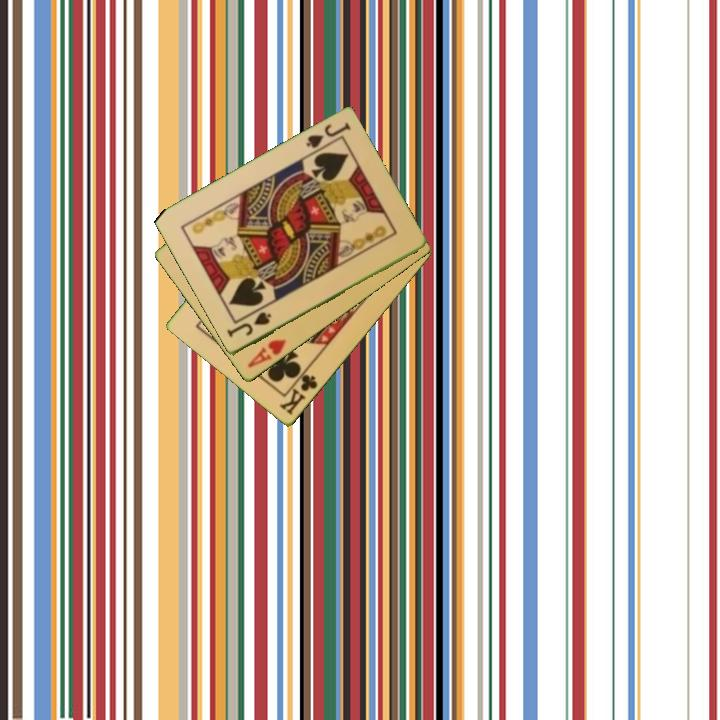Ah: (244, 336, 289, 371)
Js: (302, 119, 354, 152), (224, 309, 274, 341)
Kc: (276, 365, 320, 419)
